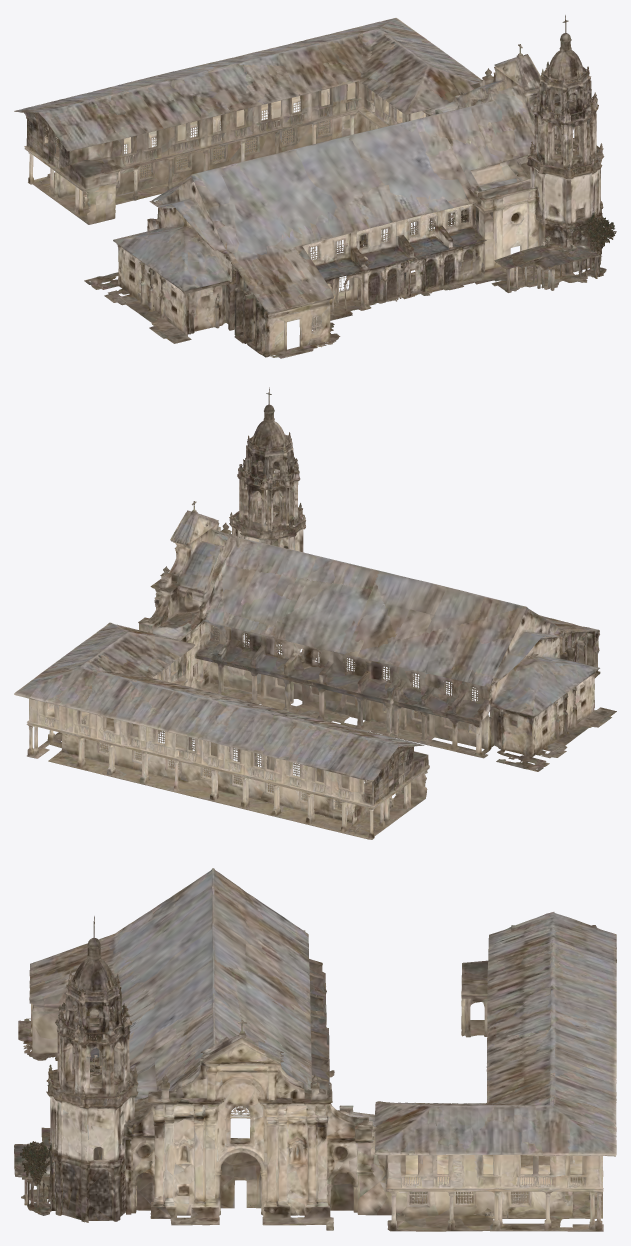
File: 01M3V95CJWDJ047YT8SGA7HX4A.glb
3 renders of one model, top to bottom at view 1: azimuth 30°, elevation 25°; view 2: azimuth 150°, elevation 25°; view 3: azimuth 270°, elevation 25°, orthographic. The views are drawn at different scales.
Bounding box in the file's own units: 1.88 × 1.02 × 1.9.
1 material, 1 textured.
